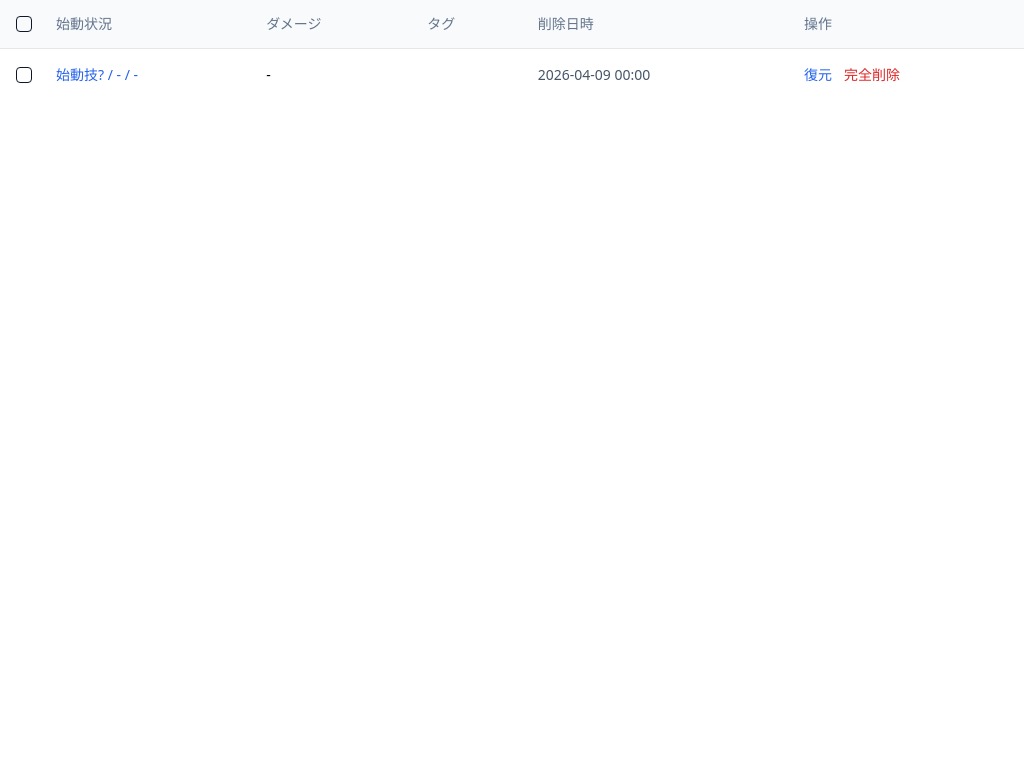
Test: TrashList › 完全削除ボタンクリックで確認ダイアログが表示される
What coordinates should you click on to do the following:
click the button "完全削除"
I would click on:
 (872, 74)
Its box is [844,64,900,84].
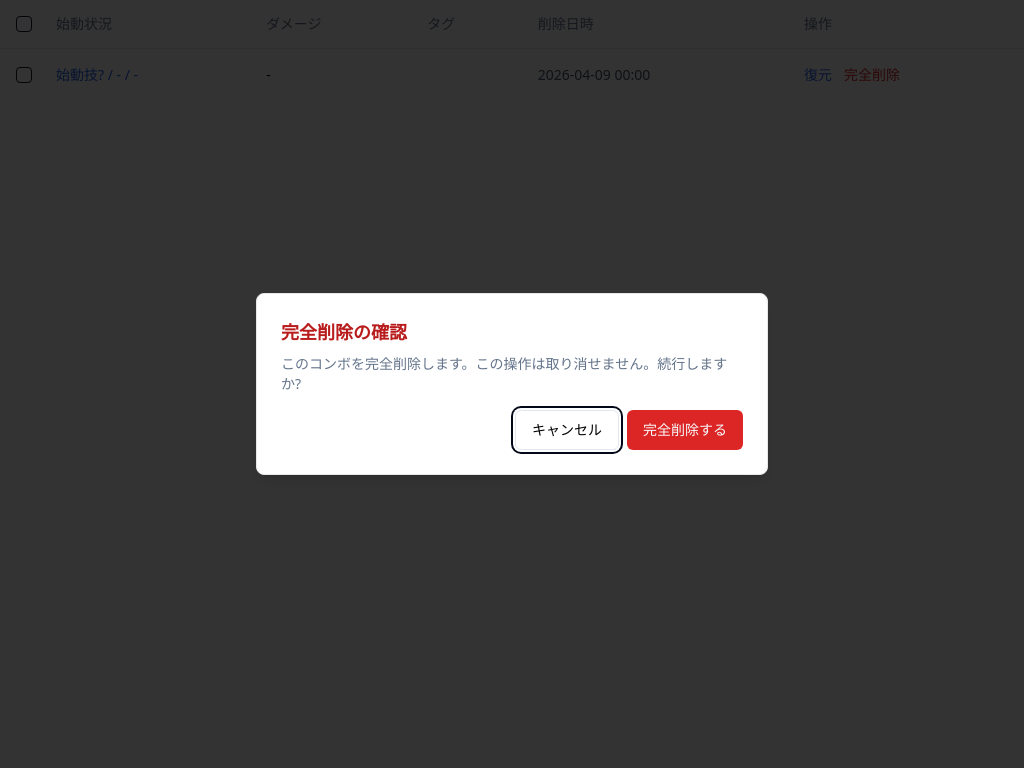
expect the dialog is shown: met, box [256,293,768,475]
